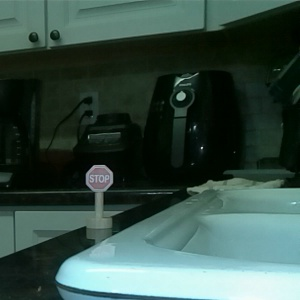stop sign: (82, 162, 115, 231)
